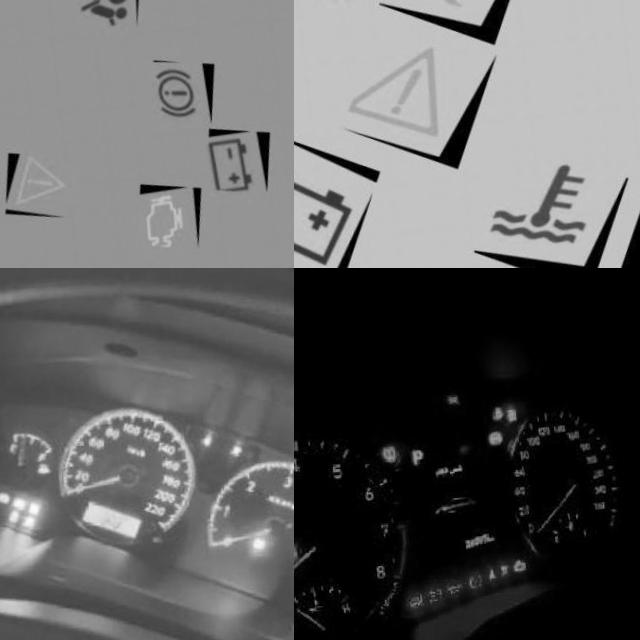Low fuel level: (30, 464, 45, 479)
Seat Belt: (483, 579, 495, 594)
